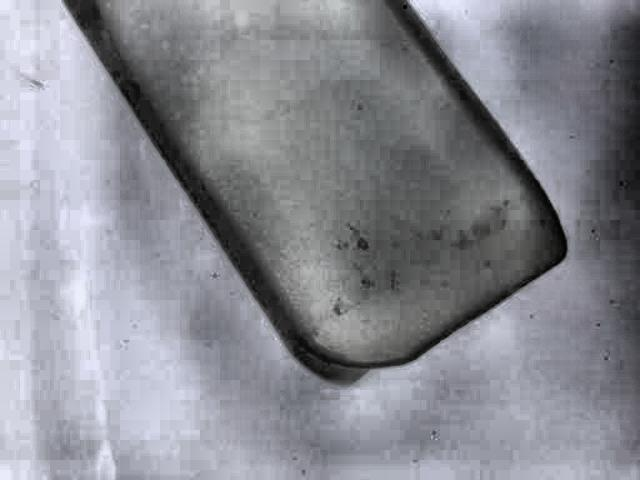Plastic: (46, 0, 583, 399)
